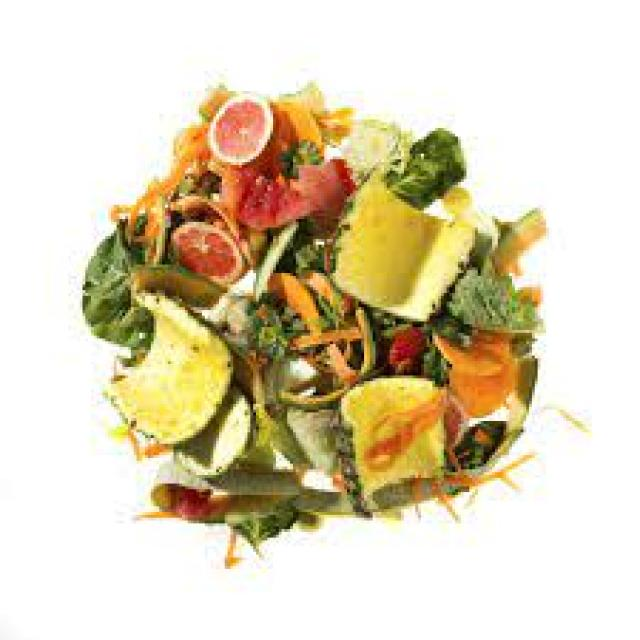Organik: (58, 70, 604, 574), (195, 66, 298, 193)
